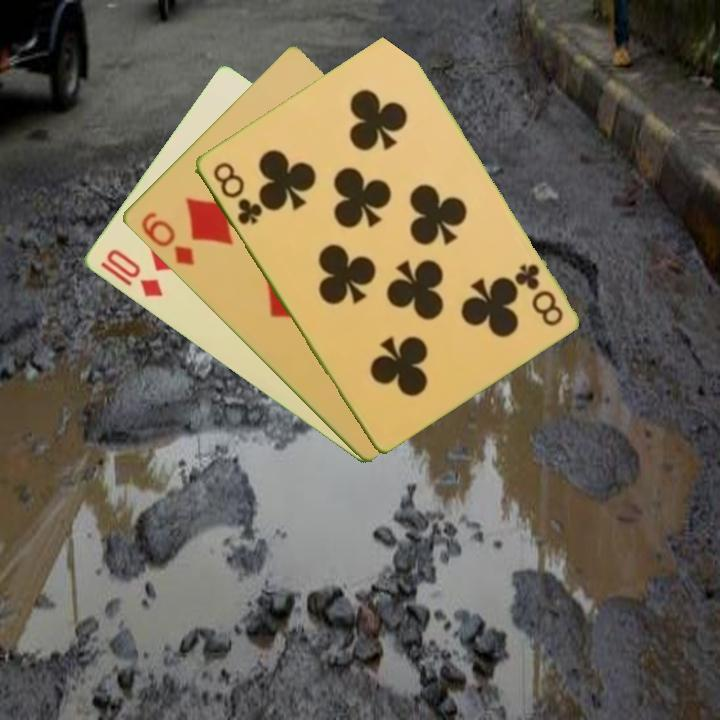10d: (102, 245, 166, 301)
6d: (137, 208, 197, 269)
8c: (208, 158, 265, 228), (511, 260, 566, 329)
